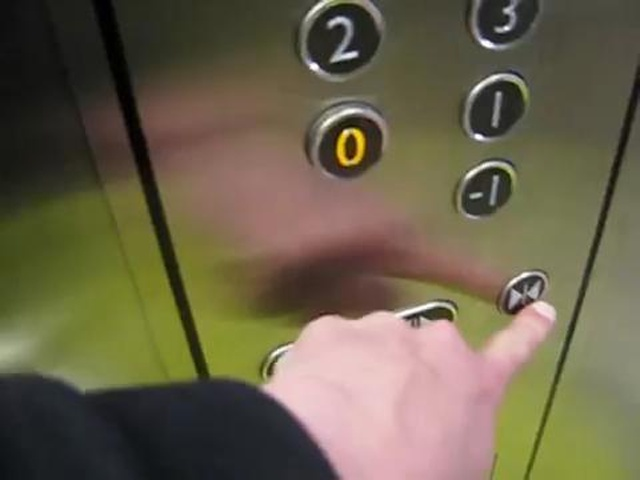-1: (449, 157, 520, 223)
0: (302, 98, 390, 182)
1: (460, 70, 533, 144)
2: (297, 1, 388, 83)
close: (494, 270, 553, 323)
